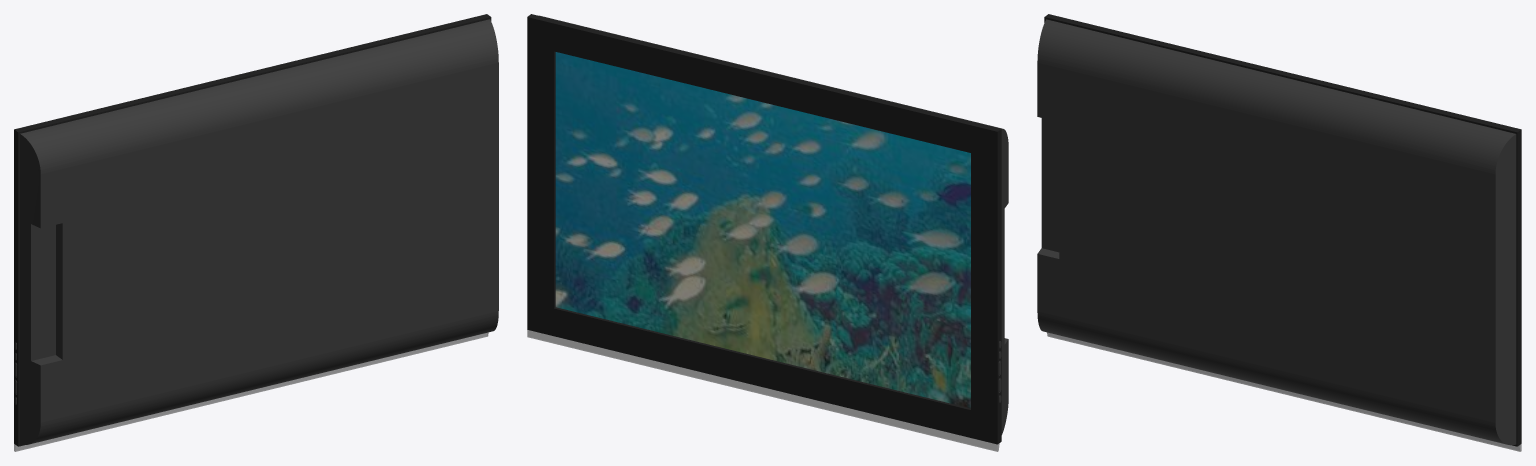
The picture shows the model from 3 angles, left to right: view 1: azimuth 30°, elevation 25°; view 2: azimuth 150°, elevation 25°; view 3: azimuth 330°, elevation 25°; orthographic projection.
Parts seen in each view (by area): view 1: Mesh8 Group2 Group1 _______TV_9_1 Model, Mesh1 Group3 Group2 Group1 _______TV_9_1 Model, Mesh2 Group4 Group2 Group1 _______TV_9_1 Model, Mesh6 Group8 Group2 Group1 _______TV_9_1 Model, Mesh7 Group9 Group2 Group1 _______TV_9_1 Model; view 2: Mesh8 Group2 Group1 _______TV_9_1 Model; view 3: Mesh8 Group2 Group1 _______TV_9_1 Model, Mesh1 Group3 Group2 Group1 _______TV_9_1 Model, Mesh2 Group4 Group2 Group1 _______TV_9_1 Model, Mesh5 Group7 Group2 Group1 _______TV_9_1 Model, Mesh6 Group8 Group2 Group1 _______TV_9_1 Model, Mesh7 Group9 Group2 Group1 _______TV_9_1 Model.
Part boxes in pixels (x1,y1,x2,y2): Mesh8 Group2 Group1 _______TV_9_1 Model: [14, 14, 498, 451]; Mesh1 Group3 Group2 Group1 _______TV_9_1 Model: [255, 19, 498, 118]; Mesh2 Group4 Group2 Group1 _______TV_9_1 Model: [20, 76, 269, 173]; Mesh6 Group8 Group2 Group1 _______TV_9_1 Model: [30, 367, 269, 444]; Mesh7 Group9 Group2 Group1 _______TV_9_1 Model: [262, 311, 498, 387]; Mesh8 Group2 Group1 _______TV_9_1 Model: [527, 14, 1008, 451]; Mesh8 Group2 Group1 _______TV_9_1 Model: [1037, 14, 1521, 451]; Mesh1 Group3 Group2 Group1 _______TV_9_1 Model: [1266, 76, 1515, 174]; Mesh2 Group4 Group2 Group1 _______TV_9_1 Model: [1037, 19, 1280, 118]; Mesh5 Group7 Group2 Group1 _______TV_9_1 Model: [1495, 134, 1516, 445]; Mesh6 Group8 Group2 Group1 _______TV_9_1 Model: [1037, 311, 1273, 387]; Mesh7 Group9 Group2 Group1 _______TV_9_1 Model: [1266, 367, 1506, 444].
Size of the model in its own units: 40.87 by 26.54 by 2.82.
4 materials, 1 textured.
